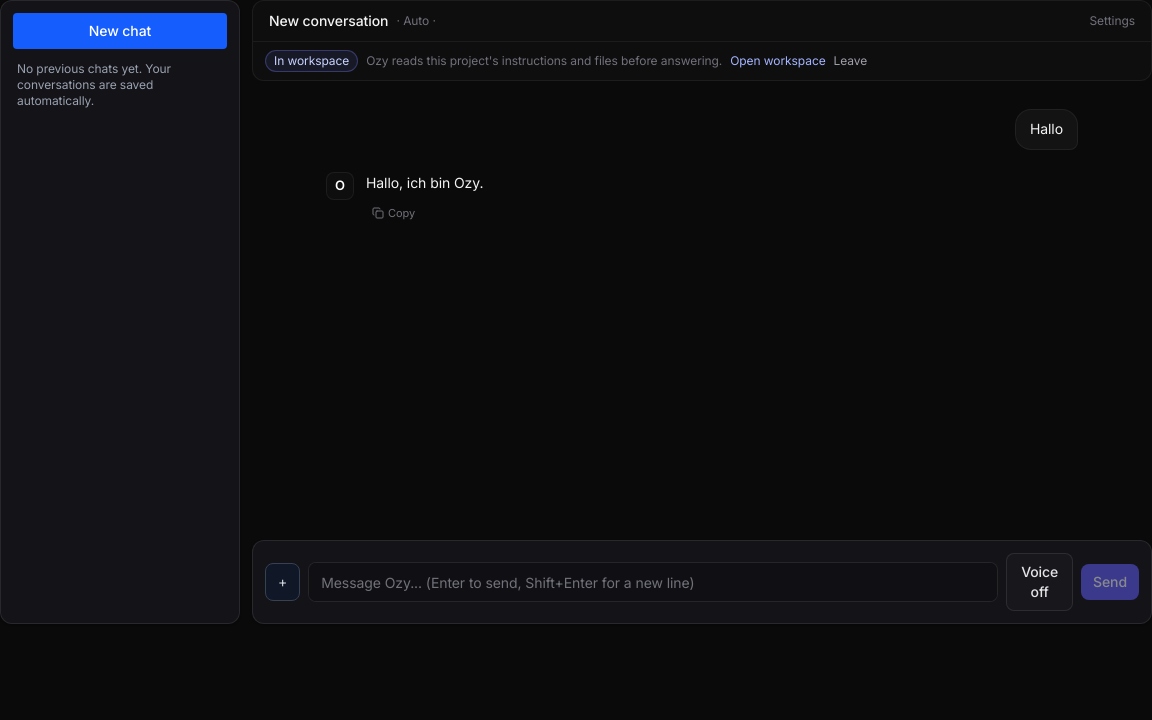
Test: ChatView › leaves the workspace on request
Click the button "Leave": (850, 61) [834, 53, 867, 69]
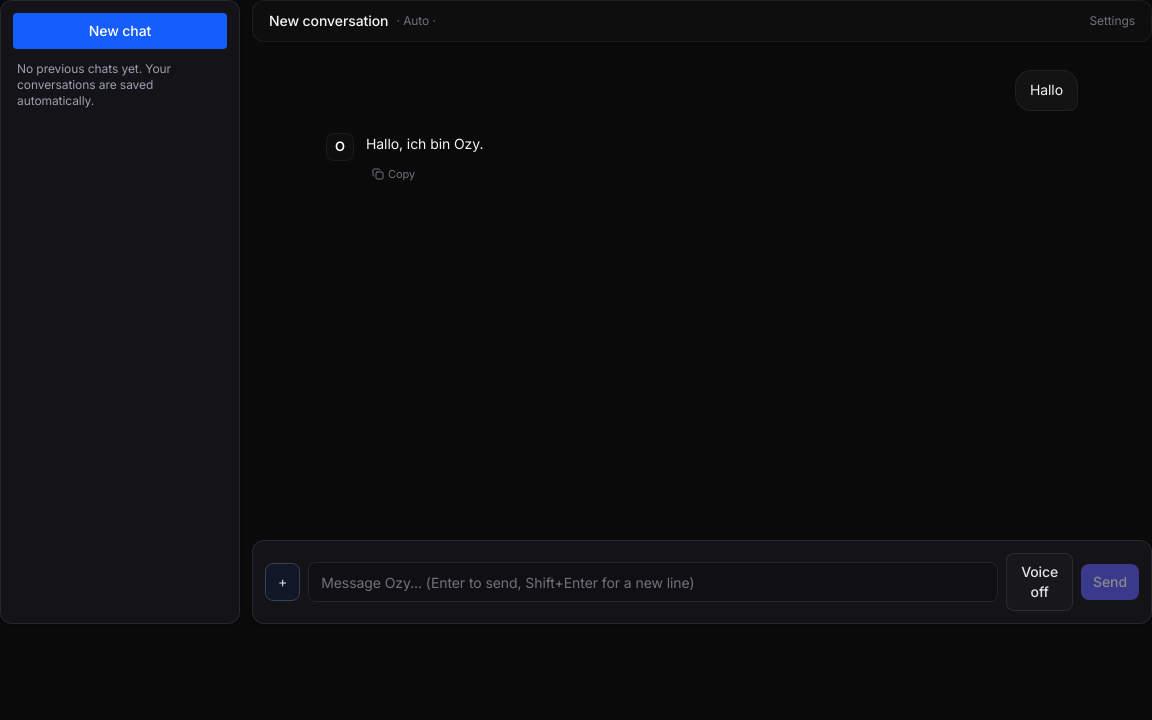
Expected: the text "In workspace" is gone
